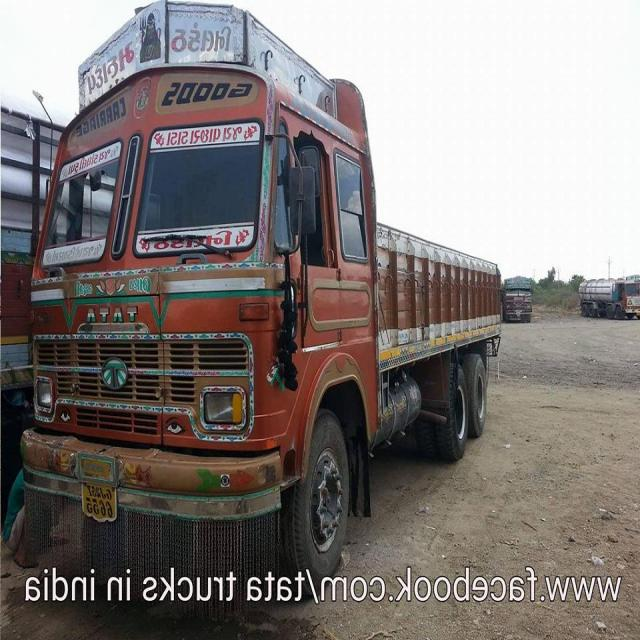truck: (26, 0, 508, 614), (572, 266, 638, 325), (505, 266, 539, 324)
